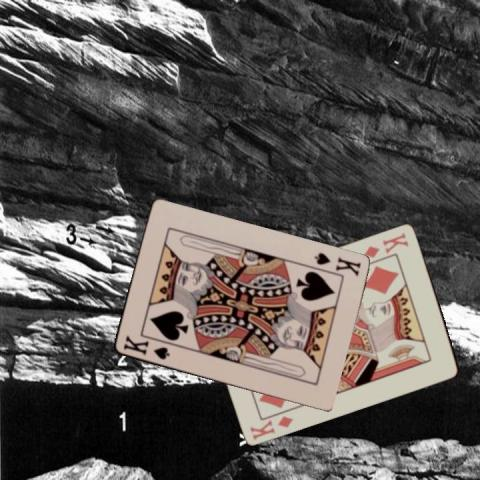Kd: (361, 230, 410, 260), (246, 413, 295, 441)
Ks: (311, 249, 362, 278), (120, 333, 171, 361)
